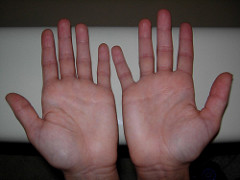palm: (130, 78, 204, 164), (47, 78, 114, 164)
